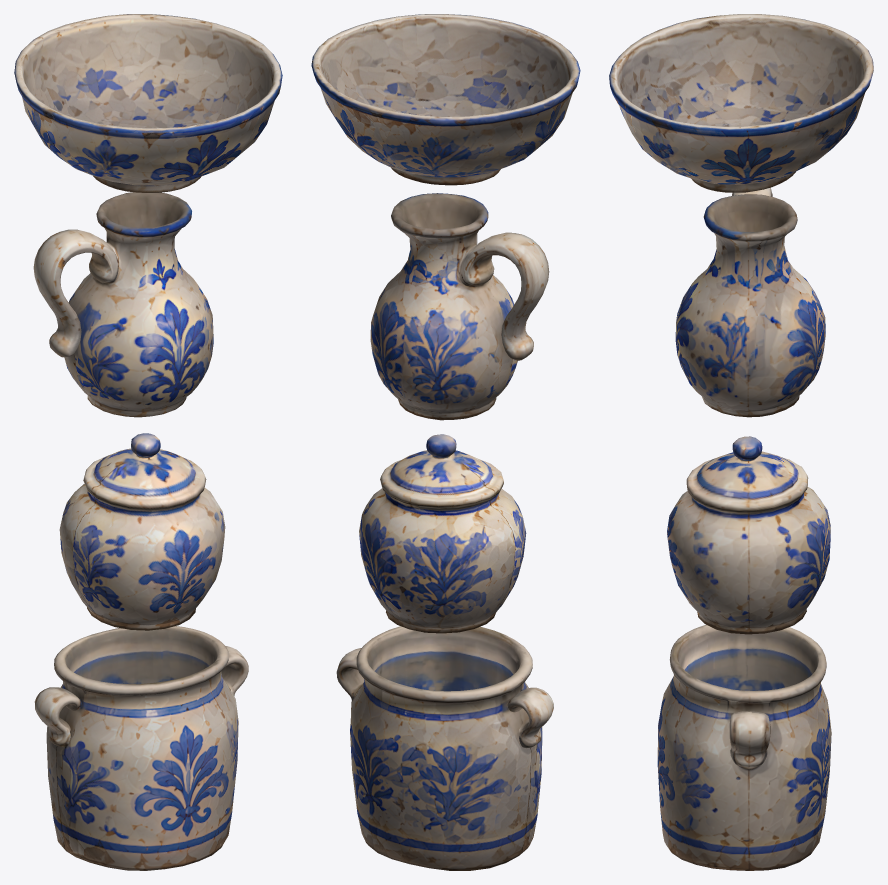
The model's file is blue_floral_porcelain_3d_model.fbx.
3 views of the same model, side by side, from view 1: azimuth 30°, elevation 25°; view 2: azimuth 150°, elevation 25°; view 3: azimuth 270°, elevation 25° (orthographic).
Parts seen in each view (by area): view 1: tripo_node_319abb08; view 2: tripo_node_319abb08; view 3: tripo_node_319abb08.
Boxes of the visible parts, x1,y1,x2,y2 form: tripo_node_319abb08: [14, 14, 282, 870]; tripo_node_319abb08: [311, 14, 580, 870]; tripo_node_319abb08: [609, 14, 873, 870].
Bounding box in the file's own units: 0.3169 × 0.9995 × 0.3091.
